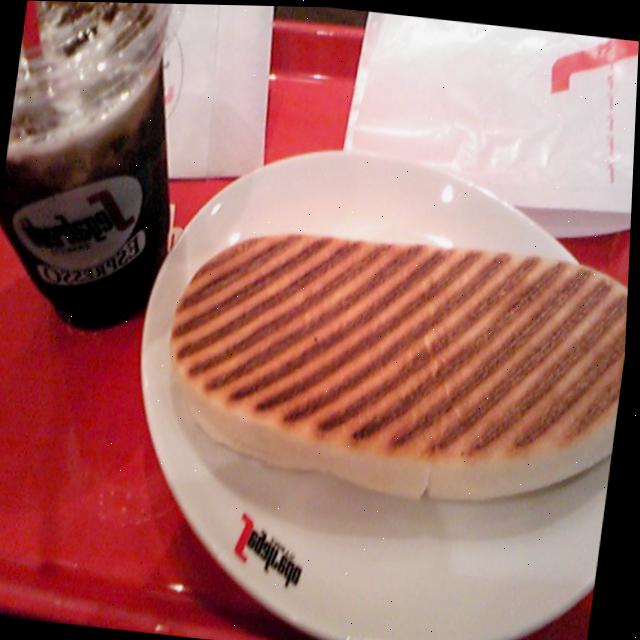三明治: (154, 191, 633, 530)
